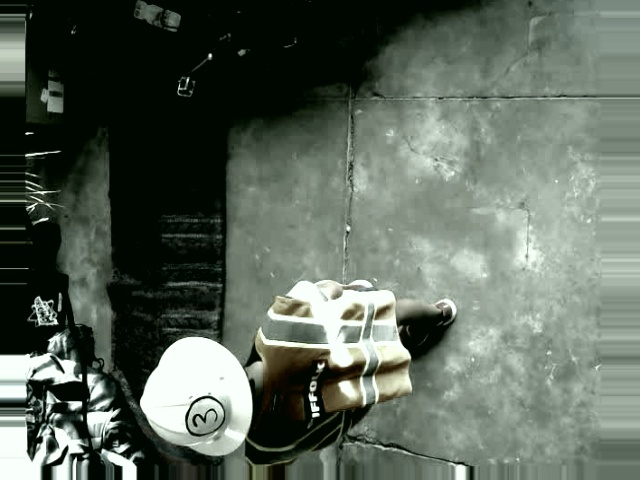three: (184, 396, 225, 435)
